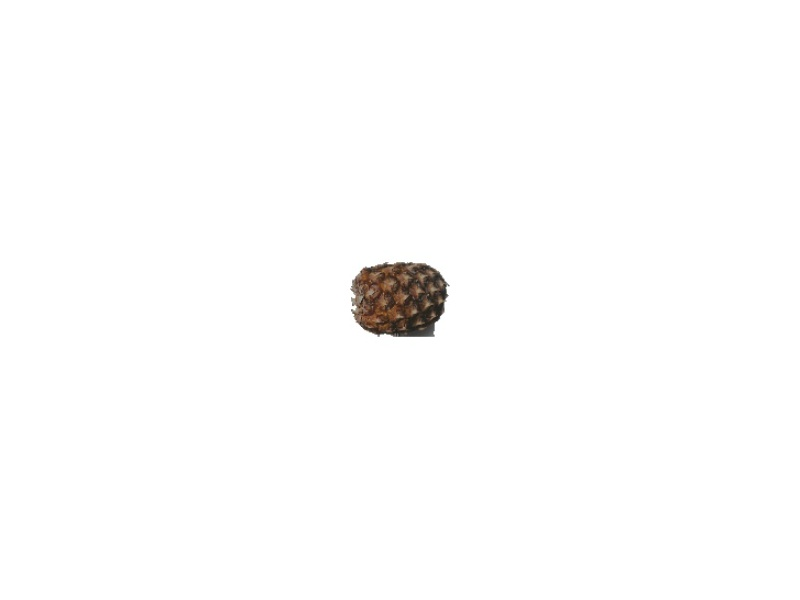abacaxi: (349, 259, 450, 341)
